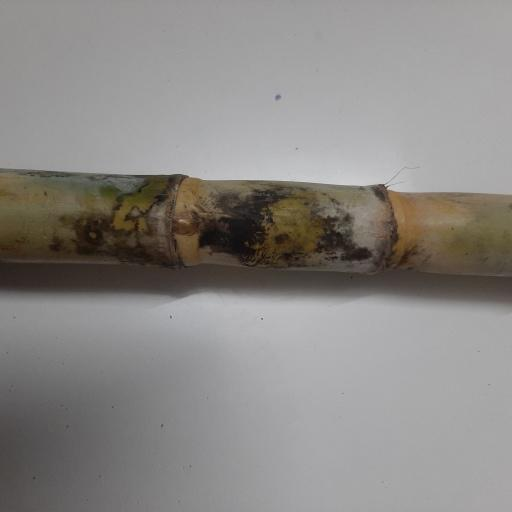Bud: (173, 215, 197, 235)
